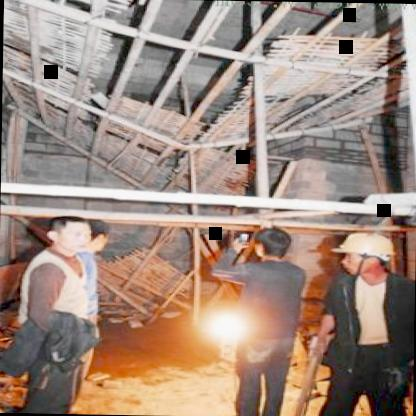head: (249, 225, 299, 265), (42, 214, 96, 251), (82, 218, 114, 254)
helmet: (338, 230, 396, 280)
